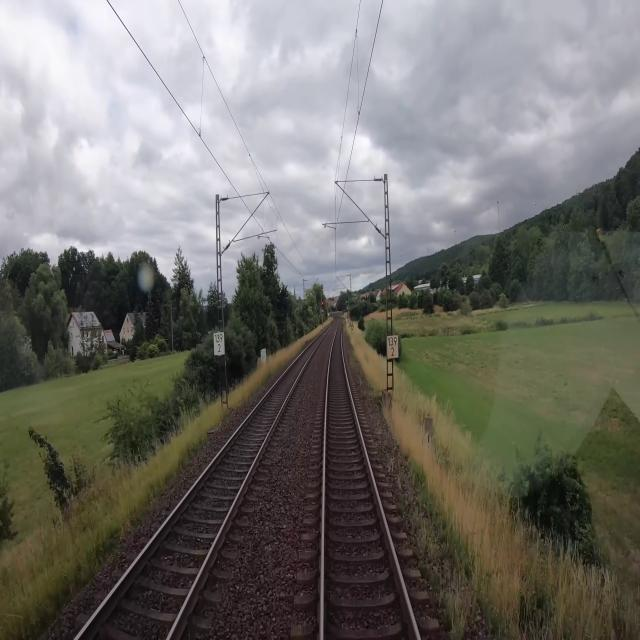Plant: (406, 502, 468, 639)
